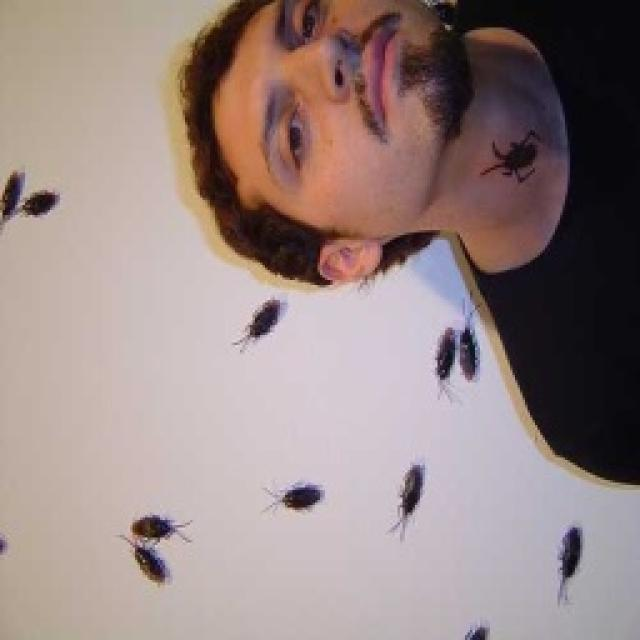cockroach: (375, 449, 447, 545), (262, 450, 336, 528), (238, 281, 316, 351), (470, 122, 552, 188), (542, 512, 588, 612), (421, 312, 472, 398), (452, 303, 492, 399), (118, 525, 174, 593), (120, 508, 206, 545), (0, 160, 34, 233), (16, 179, 62, 231), (453, 606, 497, 640)
